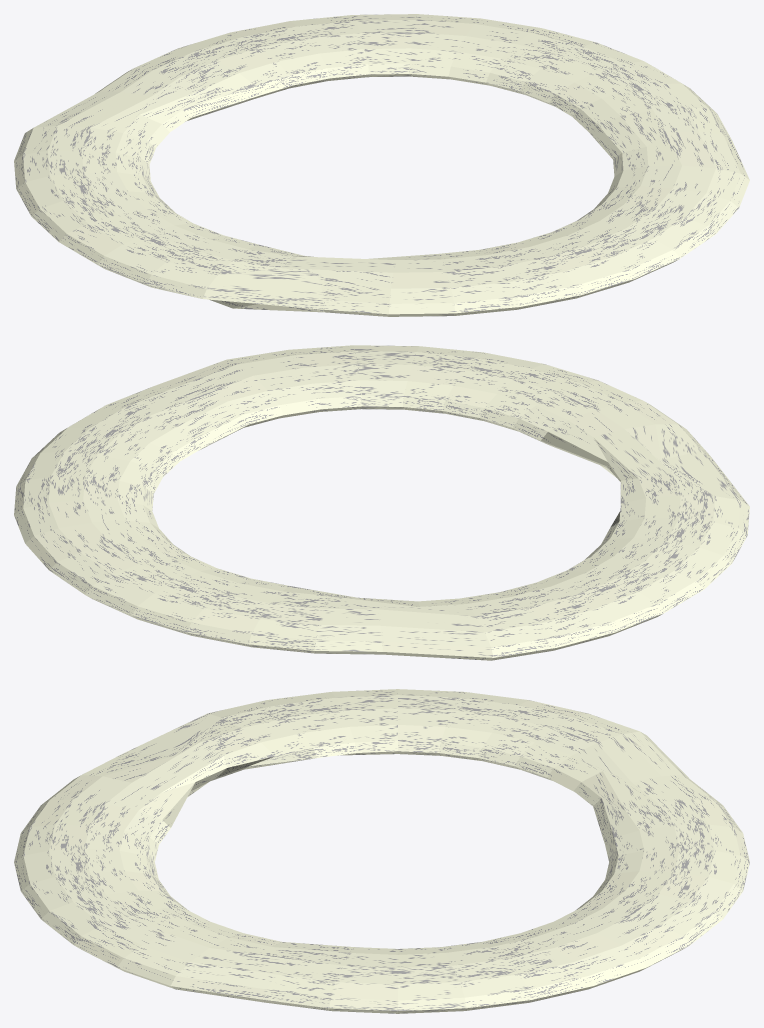
File: SnowLakeEdge.glb
3 renders of one model, top to bottom at view 1: azimuth 30°, elevation 25°; view 2: azimuth 150°, elevation 25°; view 3: azimuth 270°, elevation 25°, orthographic. The views are drawn at different scales.
Parts seen in each view (by area): view 1: Torus; view 2: Torus; view 3: Torus.
Part boxes in pixels (x1,y1,x2,y2): Torus: (14,14,749,316); Torus: (14,345,749,660); Torus: (14,689,749,1013).
Size of the model in its own units: 10.64 by 0.4174 by 10.36.
1 material, 1 textured.
